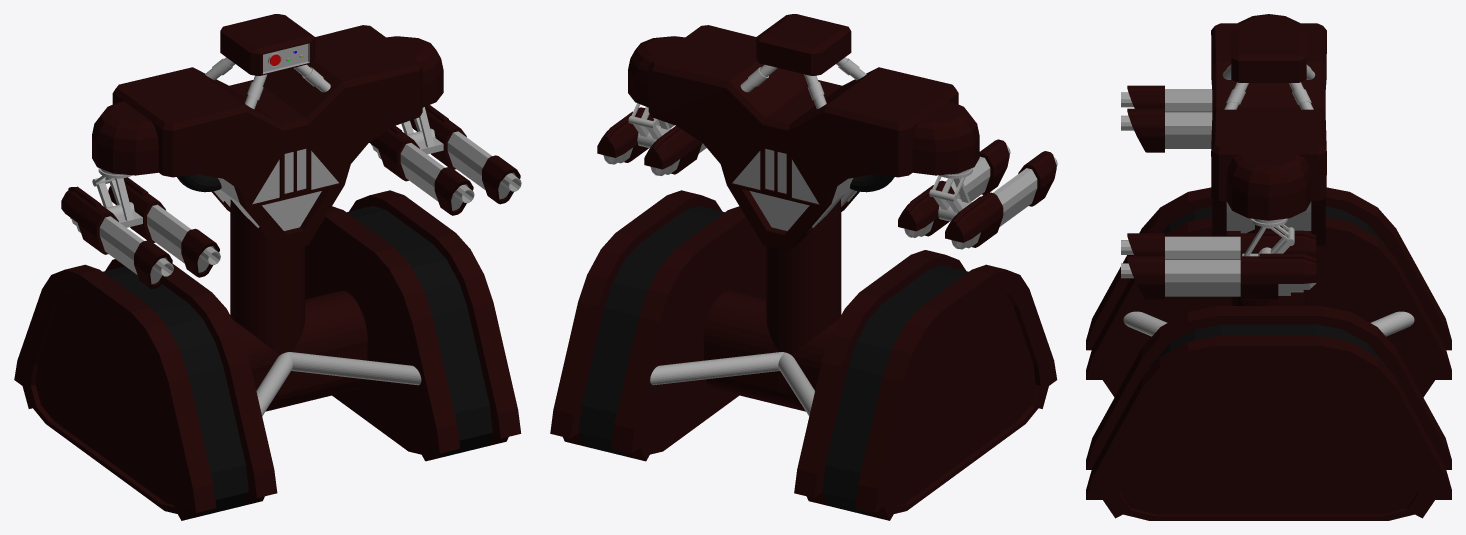
The model's file is Warbot-Red.dae.
3 views of the same model, side by side, from view 1: azimuth 30°, elevation 25°; view 2: azimuth 150°, elevation 25°; view 3: azimuth 270°, elevation 25° (orthographic).
Parts seen in each view (by area): view 1: Torso (×3); view 2: Torso (×3); view 3: Torso (×3).
Boxes of the visible parts, x1,y1,x2,y2 form: Torso (×3): (14, 14, 521, 520); Torso (×3): (550, 14, 1057, 520); Torso (×3): (1086, 14, 1451, 520).
Bounding box in the file's own units: 2.28 × 1.94 × 2.36.
